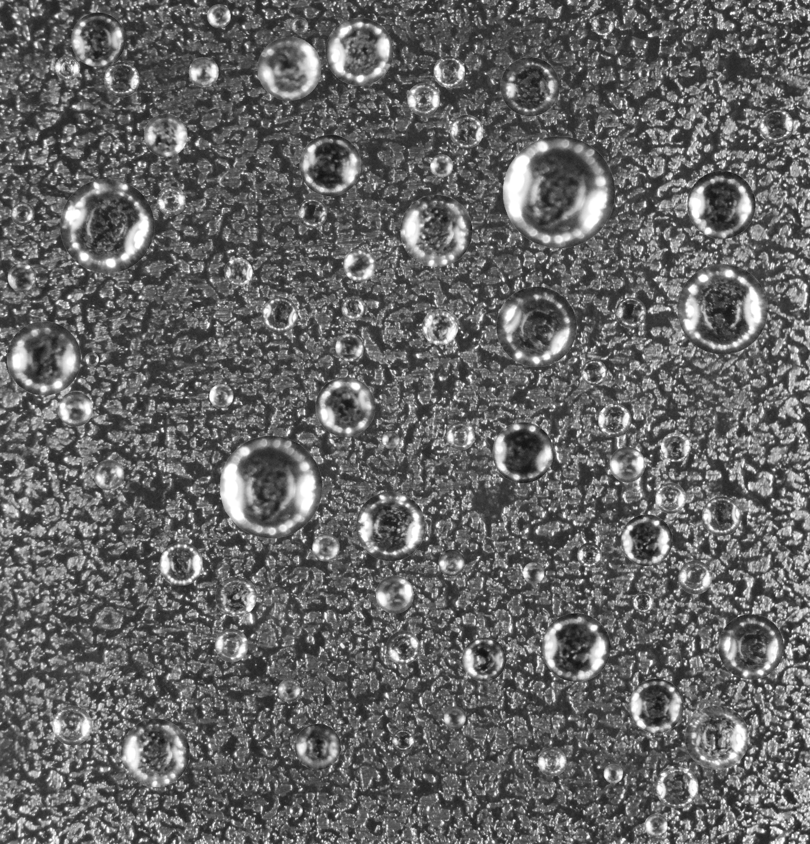Bubble: (503, 136, 615, 248), (219, 435, 322, 538), (60, 178, 154, 273), (677, 264, 767, 354), (496, 286, 576, 366), (6, 321, 80, 395), (400, 194, 472, 266), (356, 491, 425, 561), (121, 718, 189, 787), (687, 170, 755, 238), (325, 17, 393, 85), (542, 613, 610, 681), (718, 614, 783, 679), (685, 705, 749, 769), (257, 36, 321, 100), (299, 134, 361, 196), (492, 422, 553, 483), (315, 377, 375, 436), (500, 57, 559, 116), (629, 678, 683, 733), (71, 12, 125, 66), (621, 514, 672, 566), (294, 723, 340, 769), (462, 637, 506, 681), (159, 542, 202, 585), (655, 765, 698, 808), (144, 113, 187, 156), (215, 576, 256, 617), (52, 705, 91, 745), (702, 496, 741, 535), (375, 575, 413, 613), (261, 297, 297, 333), (422, 309, 458, 344), (104, 61, 139, 97), (609, 447, 645, 482), (57, 391, 92, 426), (678, 560, 712, 594), (214, 628, 248, 662), (759, 108, 793, 142), (598, 403, 631, 437), (450, 114, 483, 148), (386, 631, 419, 664), (343, 248, 376, 281), (407, 83, 439, 115), (433, 56, 465, 87), (93, 459, 124, 490), (655, 483, 686, 513), (615, 297, 646, 327), (188, 57, 218, 86), (297, 198, 327, 227), (661, 432, 690, 461), (156, 186, 185, 215), (446, 421, 474, 450), (538, 747, 566, 776), (224, 257, 252, 285), (7, 263, 35, 291), (335, 333, 363, 361), (312, 534, 339, 561), (438, 549, 465, 576), (581, 359, 607, 385), (55, 55, 79, 80), (577, 542, 601, 567), (209, 384, 233, 408), (11, 202, 34, 225), (207, 4, 230, 27), (341, 297, 364, 320), (430, 154, 453, 177), (644, 814, 667, 837), (277, 679, 300, 701), (592, 13, 614, 35), (392, 729, 414, 751), (443, 706, 465, 728), (523, 562, 544, 583), (633, 592, 653, 612), (603, 764, 623, 783), (382, 431, 399, 448), (291, 17, 308, 33), (84, 352, 98, 366), (289, 804, 302, 817), (637, 67, 649, 79)
